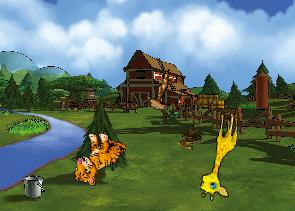eagle: (135, 69, 183, 124)
giraffe: (197, 109, 240, 202)
tiger: (70, 127, 128, 191)
